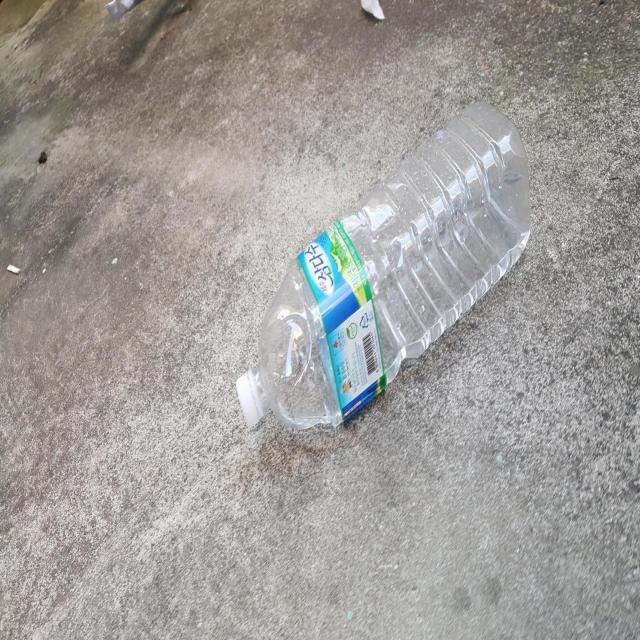plastic: (236, 101, 531, 428)
